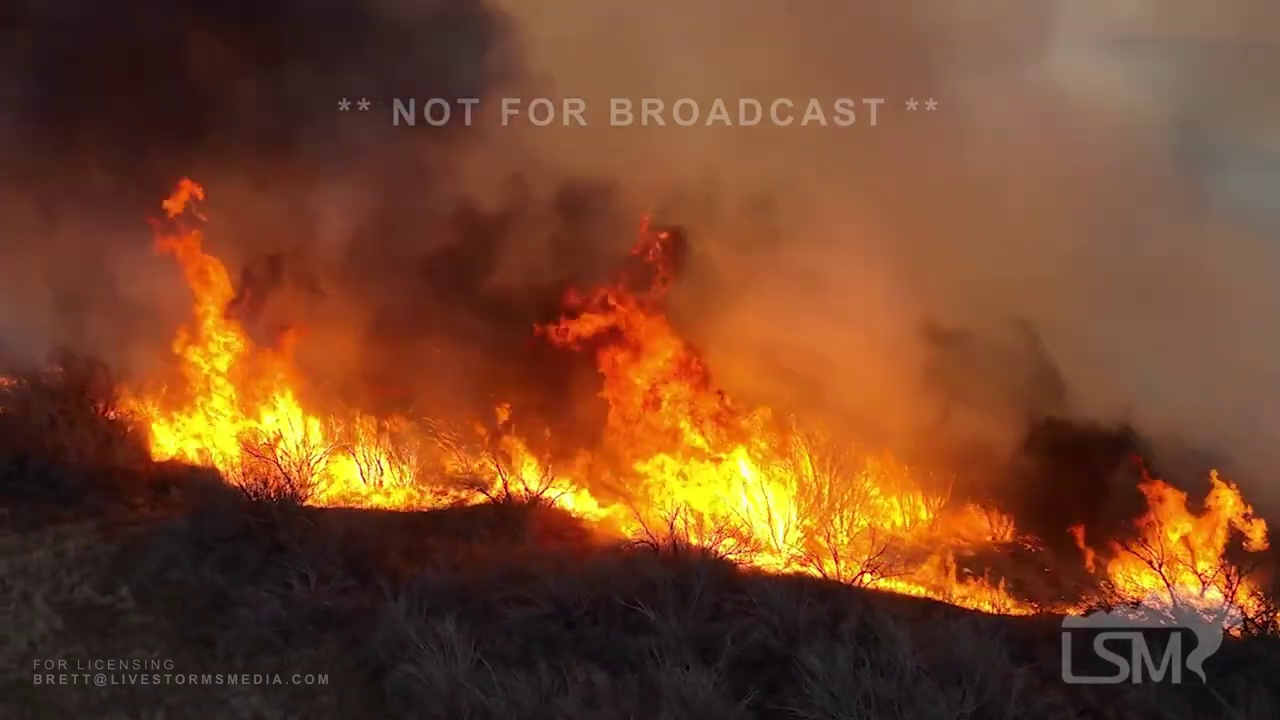forest_fire: (124, 180, 1082, 613), (1071, 473, 1266, 610)
